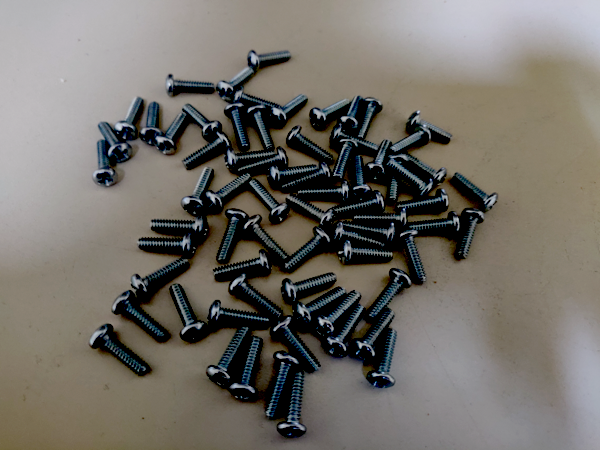shortscrew: (89, 323, 150, 377), (111, 291, 169, 343), (270, 317, 321, 374), (207, 325, 251, 386), (130, 258, 192, 299), (229, 273, 283, 319), (242, 214, 289, 265), (351, 309, 396, 362), (266, 351, 301, 419), (314, 290, 363, 338), (367, 268, 412, 320), (169, 284, 208, 342), (283, 227, 333, 271), (324, 304, 365, 357), (293, 286, 347, 326), (230, 336, 263, 401), (247, 178, 290, 224), (278, 371, 307, 439), (212, 250, 272, 282), (452, 172, 499, 212), (182, 132, 232, 169), (281, 273, 338, 305), (387, 161, 434, 199), (396, 230, 428, 285), (217, 209, 249, 264), (286, 195, 336, 230), (368, 330, 397, 390), (287, 126, 335, 162), (208, 301, 270, 328), (181, 167, 215, 216), (138, 231, 197, 258), (235, 146, 289, 175), (407, 111, 453, 145), (183, 103, 223, 142), (400, 153, 447, 186), (332, 222, 386, 250), (456, 208, 485, 260), (330, 124, 382, 153), (150, 214, 208, 239), (246, 103, 275, 152), (155, 112, 187, 156), (341, 221, 397, 246), (98, 122, 132, 163), (338, 240, 393, 265), (269, 94, 309, 128), (408, 211, 460, 237), (333, 191, 385, 217), (217, 67, 256, 101), (92, 140, 119, 189), (114, 97, 144, 141), (224, 103, 251, 151), (310, 99, 351, 130), (298, 179, 350, 203), (331, 139, 359, 183), (224, 148, 275, 172), (388, 126, 431, 154), (386, 154, 410, 203), (365, 137, 391, 182), (354, 208, 409, 229), (166, 74, 215, 97), (350, 156, 373, 203), (357, 98, 383, 138), (234, 87, 279, 110), (337, 96, 363, 134), (141, 101, 163, 145), (248, 50, 292, 69)
